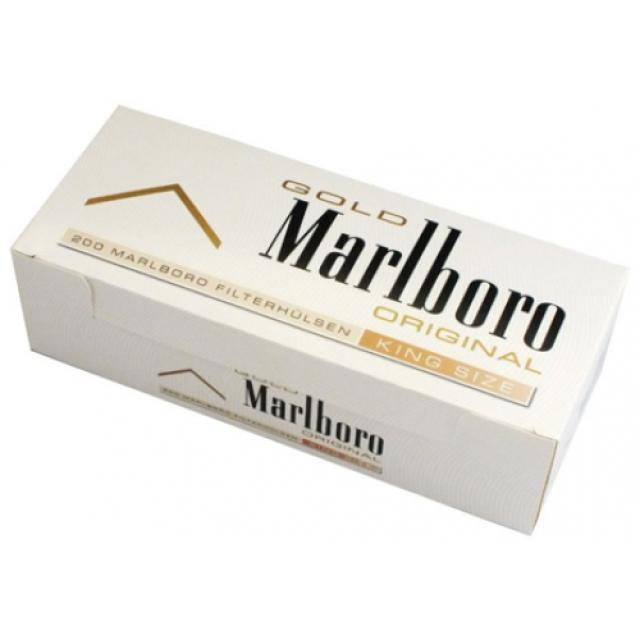marlboro: (12, 134, 619, 539)
